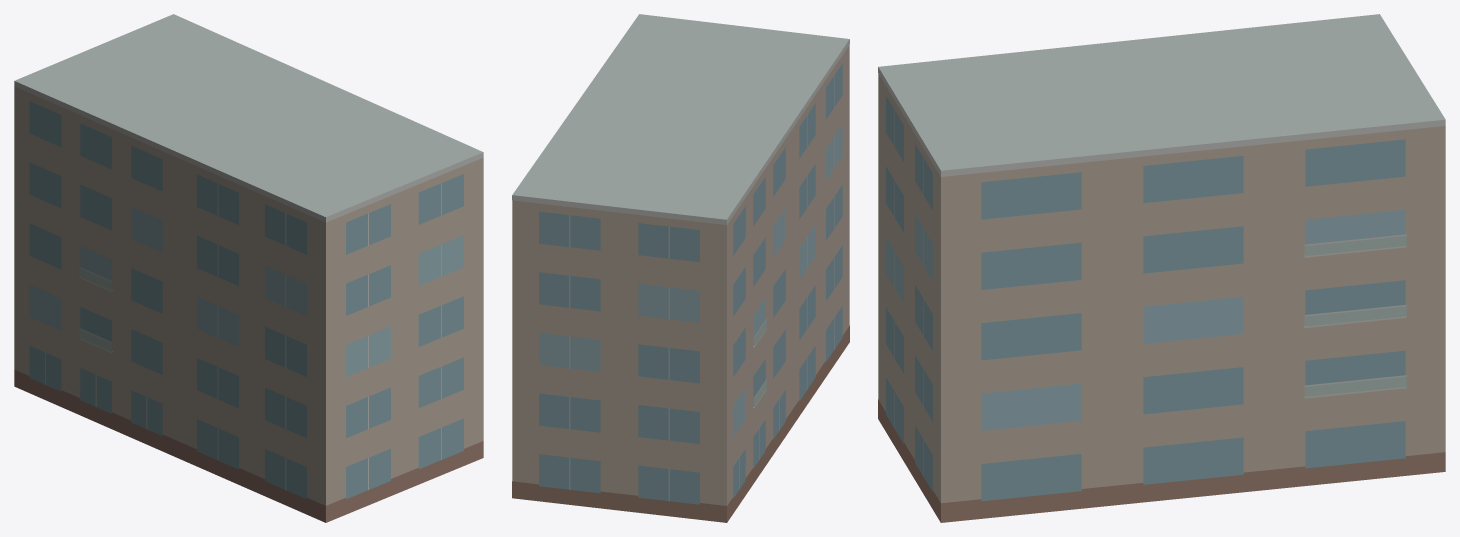
The model's file is survey-upis-32694999.glb.
3 renders of one model, left to right at view 1: azimuth 30°, elevation 25°; view 2: azimuth 150°, elevation 25°; view 3: azimuth 270°, elevation 25°, orthographic. The views are drawn at different scales.
Visible parts, largest first — view 1: survey-upis-32694999.tmp; view 2: survey-upis-32694999.tmp; view 3: survey-upis-32694999.tmp.
Part boxes in pixels (x1,y1,x2,y2): survey-upis-32694999.tmp: (14, 14, 483, 522); survey-upis-32694999.tmp: (512, 14, 849, 522); survey-upis-32694999.tmp: (878, 14, 1445, 522).
Size of the model in its own units: 13.29 by 13.9 by 20.32.
